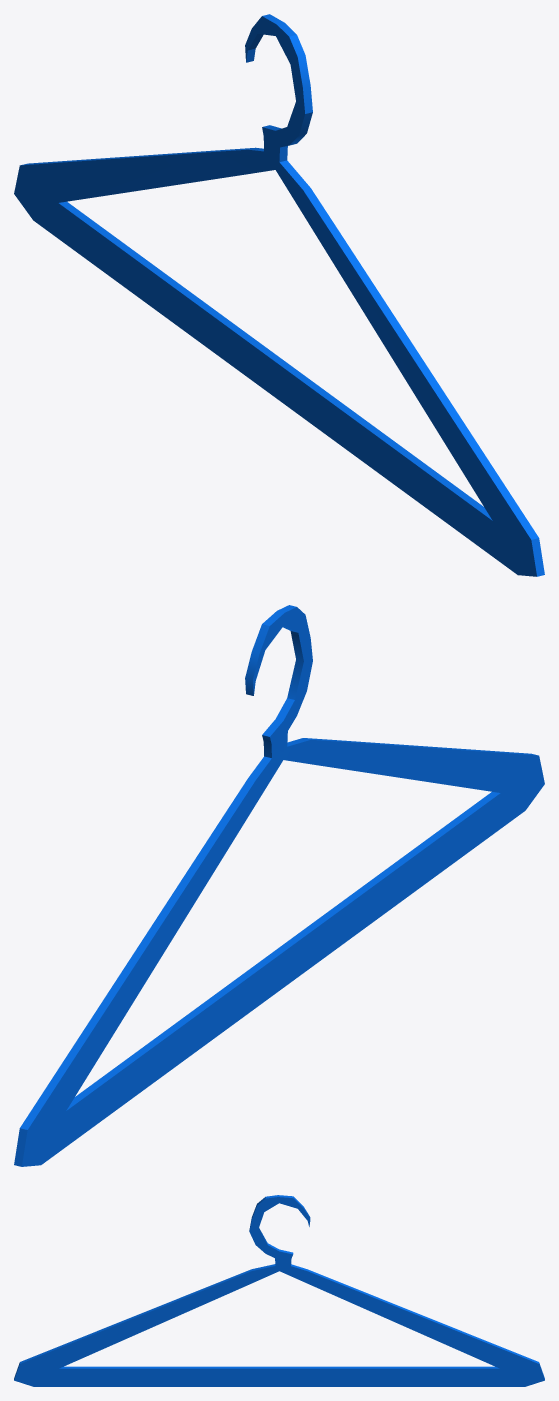
File: Hanger_H.FBX
3 views of the same model, one above another, from view 1: azimuth 30°, elevation 25°; view 2: azimuth 150°, elevation 25°; view 3: azimuth 270°, elevation 25° (orthographic). The views are drawn at different scales.
Parts seen in each view (by area): view 1: Hanger; view 2: Hanger; view 3: Hanger.
Boxes of the visible parts, x1,y1,x2,y2 form: Hanger: (14, 14, 544, 576); Hanger: (14, 605, 544, 1166); Hanger: (14, 1195, 544, 1386).
Size of the model in its own units: 1.01 by 45.57 by 115.
